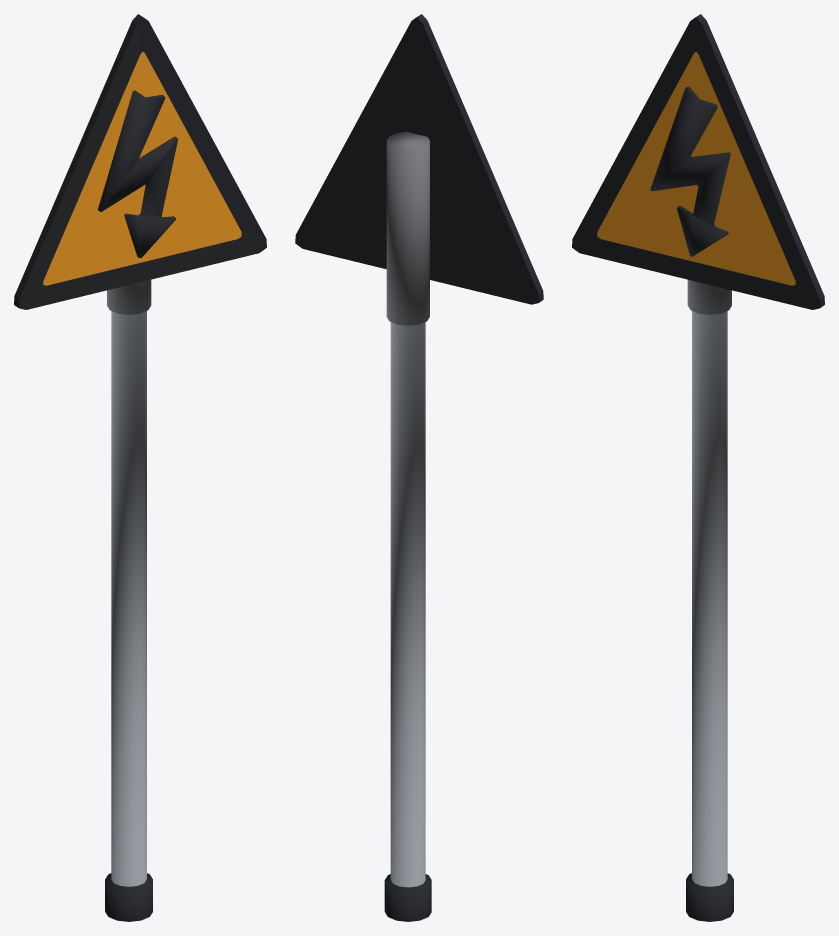
Rendered from TrafficSign_12.fbx.
3 views of the same model, side by side, from view 1: azimuth 30°, elevation 25°; view 2: azimuth 150°, elevation 25°; view 3: azimuth 330°, elevation 25° (orthographic).
Visible parts, largest first — view 1: TrafficSign_12; view 2: TrafficSign_12; view 3: TrafficSign_12.
Boxes of the visible parts, x1,y1,x2,y2 form: TrafficSign_12: (14, 14, 266, 921); TrafficSign_12: (295, 14, 543, 921); TrafficSign_12: (572, 14, 824, 921).
Size of the model in its own units: 60.54 by 211 by 11.42.
